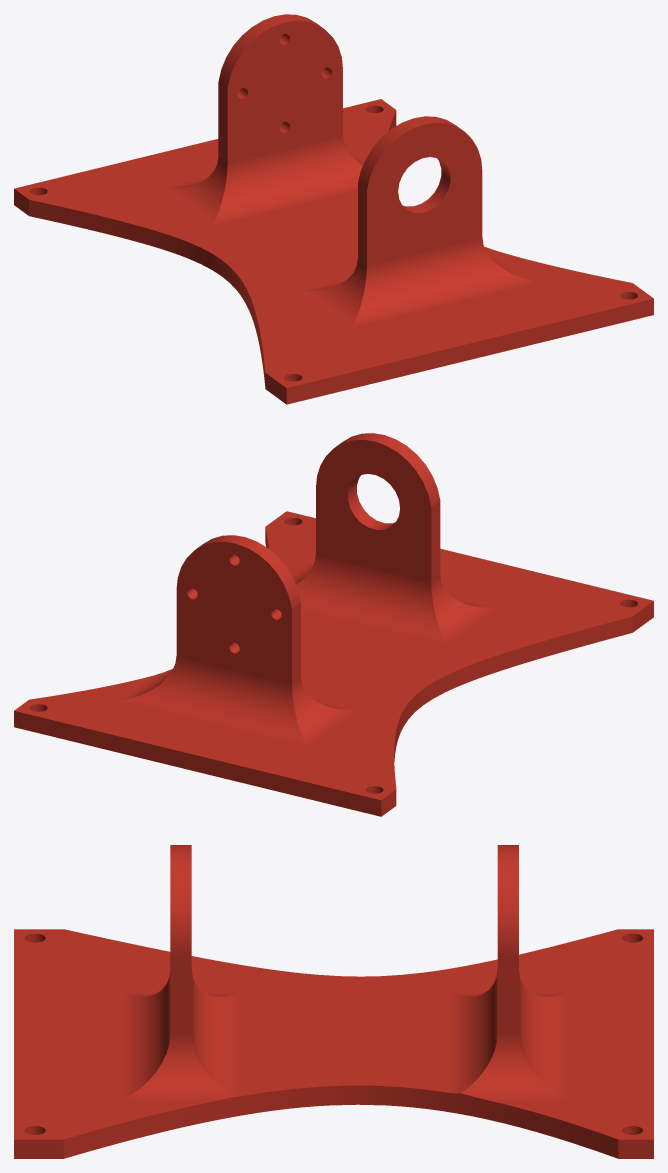
File: Right Foot.dae
3 views of the same model, one above another, from view 1: azimuth 30°, elevation 25°; view 2: azimuth 150°, elevation 25°; view 3: azimuth 270°, elevation 25° (orthographic). The views are drawn at different scales.
Parts seen in each view (by area): view 1: Body1_Plastic_-_Glossy_(Red); view 2: Body1_Plastic_-_Glossy_(Red); view 3: Body1_Plastic_-_Glossy_(Red).
Part boxes in pixels (x1,y1,x2,y2): Body1_Plastic_-_Glossy_(Red): (14,14,653,404); Body1_Plastic_-_Glossy_(Red): (14,433,653,816); Body1_Plastic_-_Glossy_(Red): (14,845,653,1158).
Size of the model in its own units: 0.07 by 0.09 by 0.0331.
